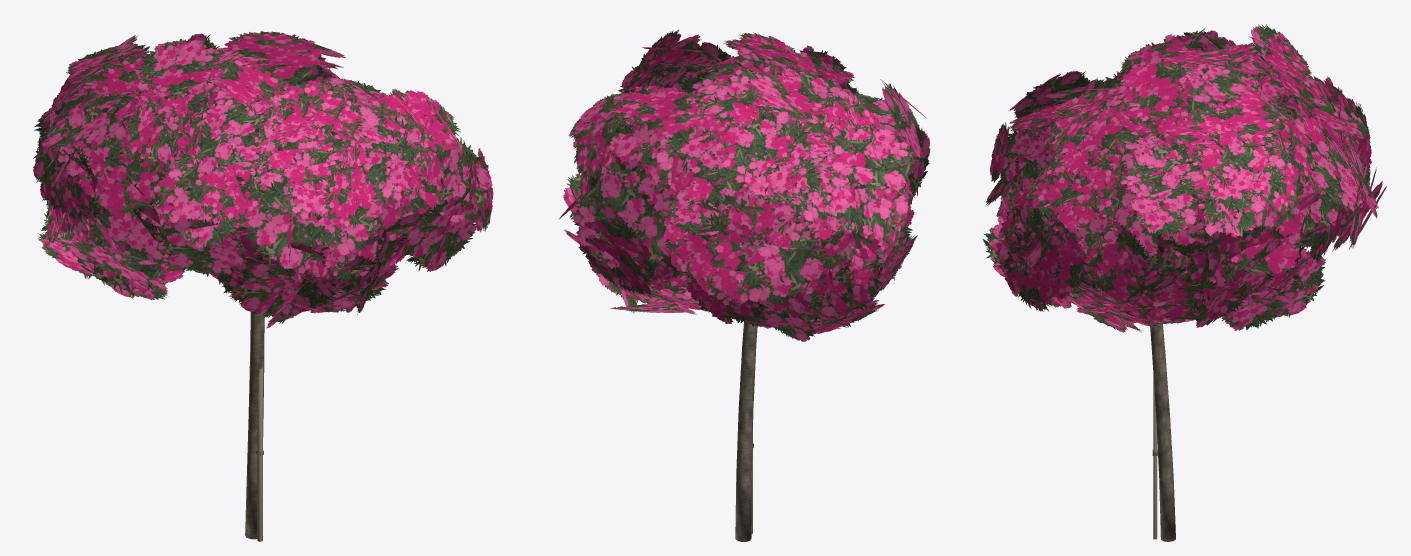
Rendered from SM_Morin_OleandroAlberello_Rosa.fbx.
3 renders of one model, left to right at view 1: azimuth 30°, elevation 25°; view 2: azimuth 150°, elevation 25°; view 3: azimuth 270°, elevation 25°, orthographic. The views are drawn at different scales.
Parts seen in each view (by area): view 1: SM_Morin_OleandroAlberello_Rosa; view 2: SM_Morin_OleandroAlberello_Rosa; view 3: SM_Morin_OleandroAlberello_Rosa.
Boxes of the visible parts, x1,y1,x2,y2 form: SM_Morin_OleandroAlberello_Rosa: (33, 30, 493, 541); SM_Morin_OleandroAlberello_Rosa: (558, 29, 930, 541); SM_Morin_OleandroAlberello_Rosa: (982, 24, 1386, 541).
Size of what is drawn, in the model's own units: 335 by 321 by 405.
2 materials, 2 textured.
